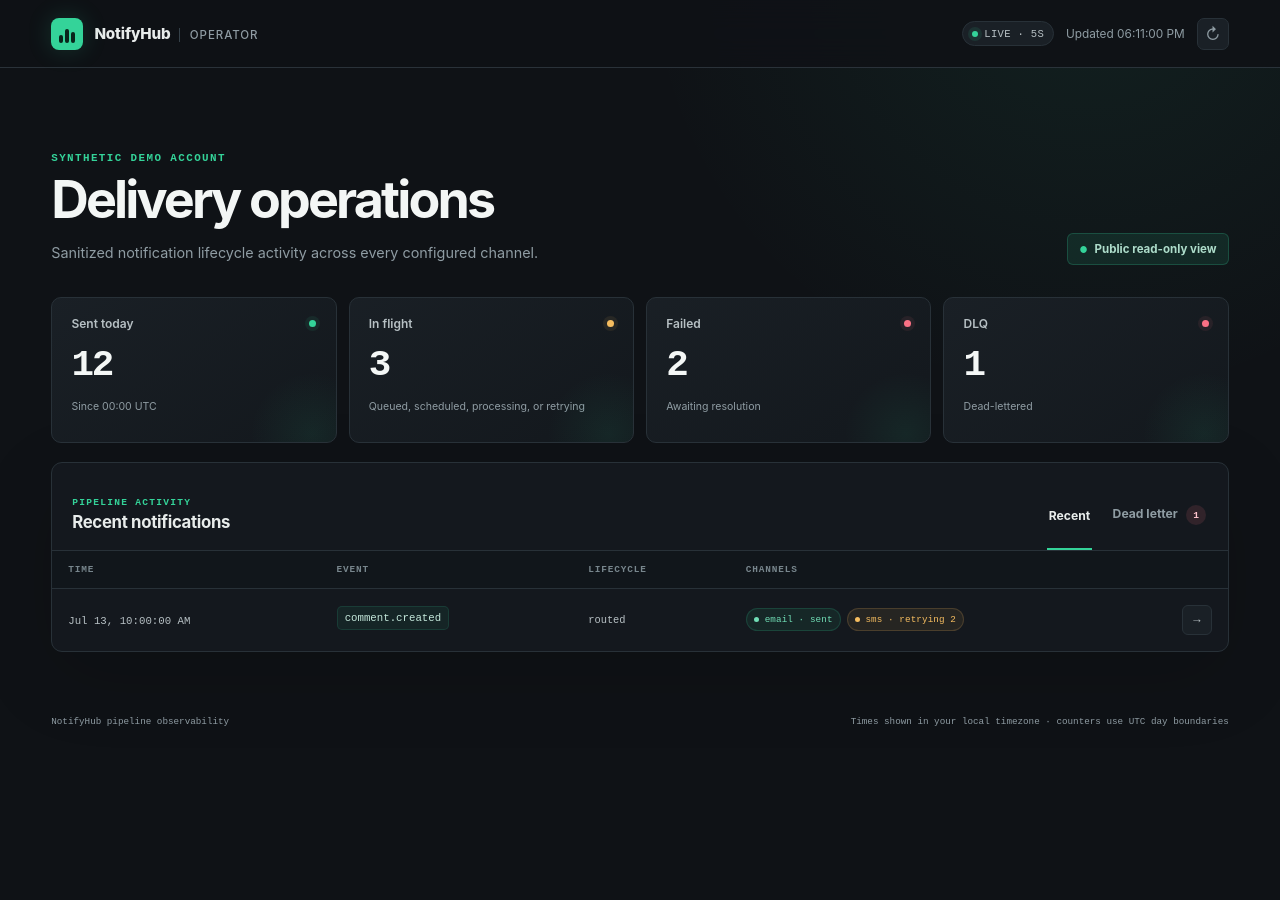
operator dashboard › handles the unauthorized retry outcome and keeps the key in component memory
Click the tab "Dead letter 1" at [1159, 516], box x1=1111 y1=482 x2=1208 y2=550
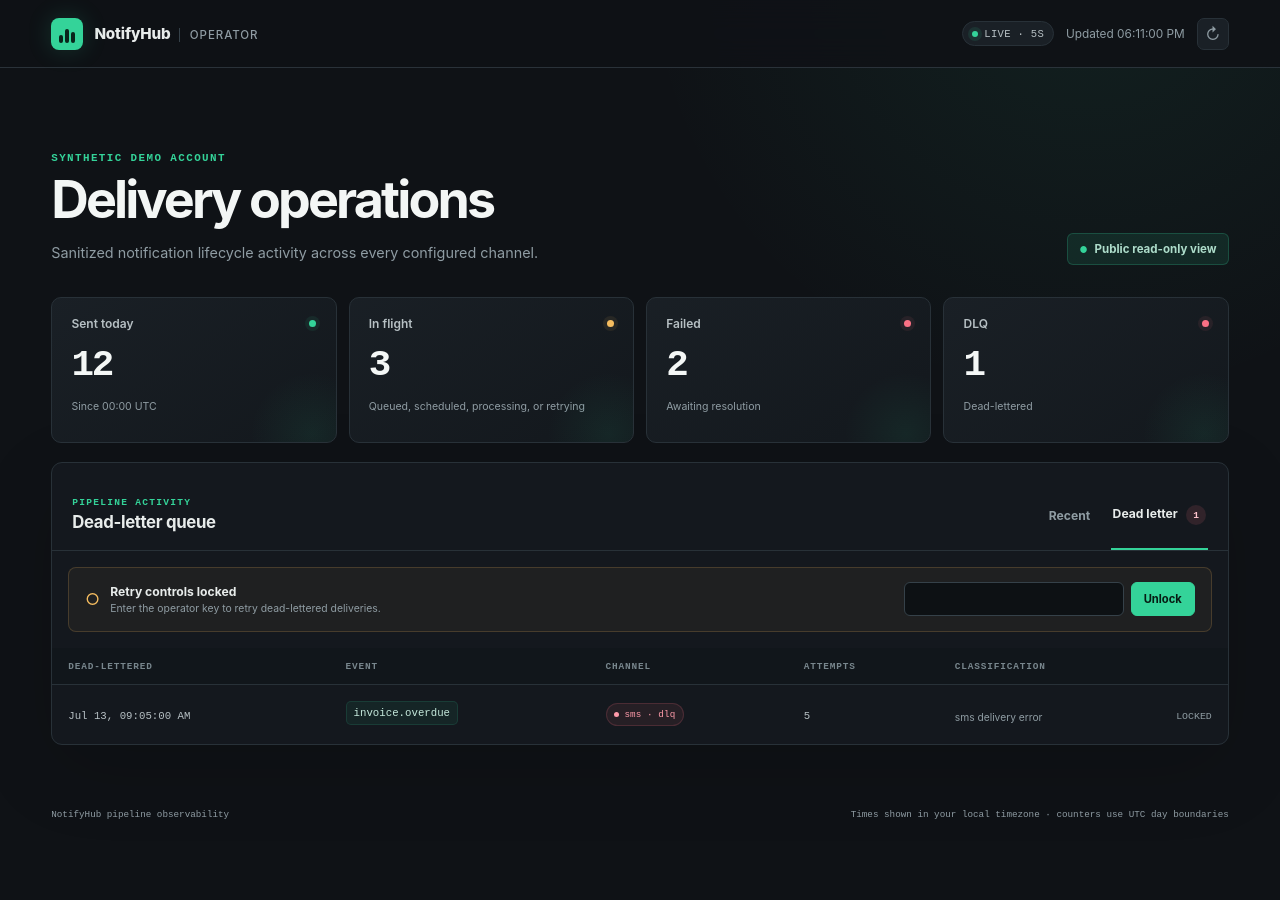
Type "memory-only-key" into the password field named "Operator key" at [1014, 599], box x1=904 y1=582 x2=1124 y2=616
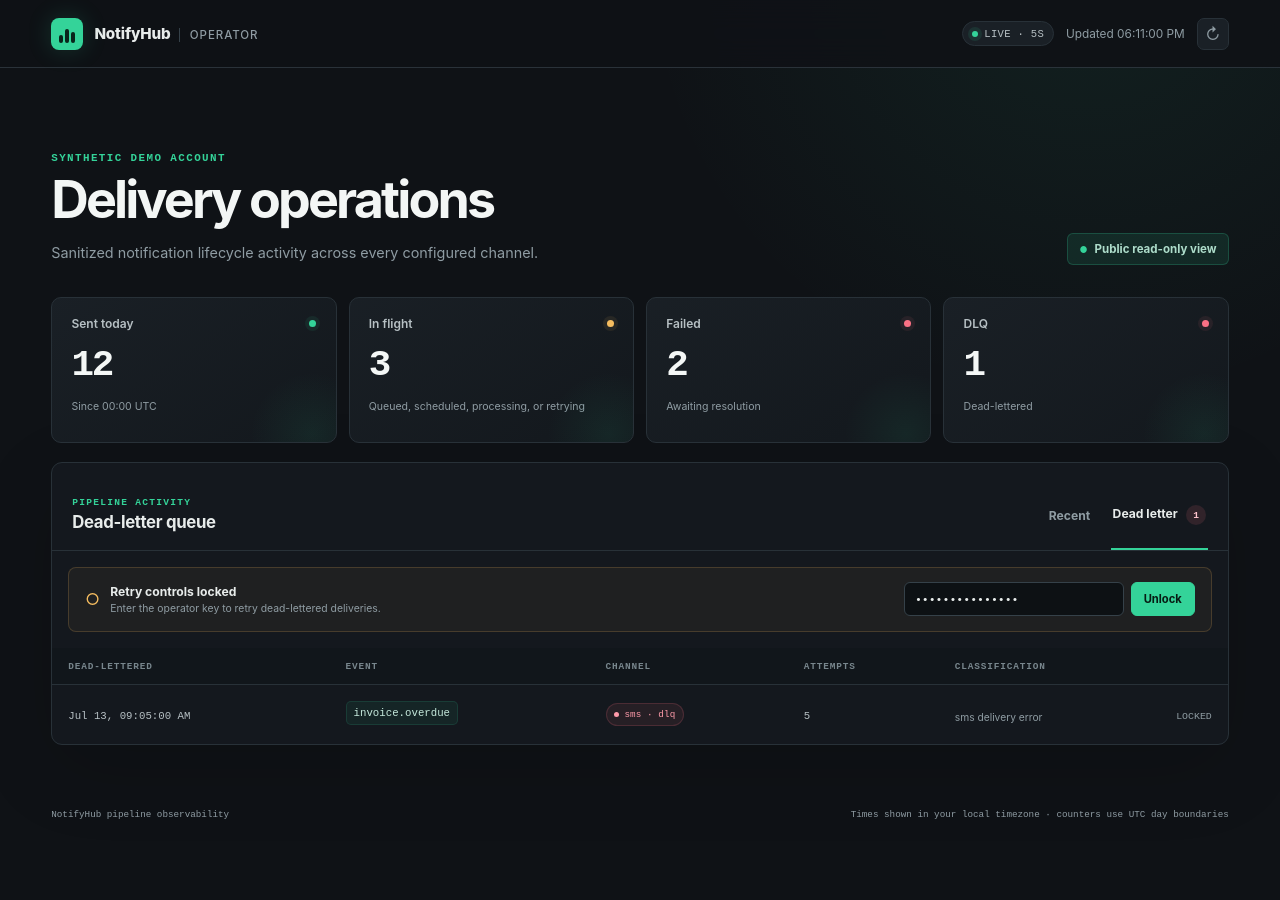
Submit the form named "Operator key", box x1=904 y1=582 x2=1195 y2=616
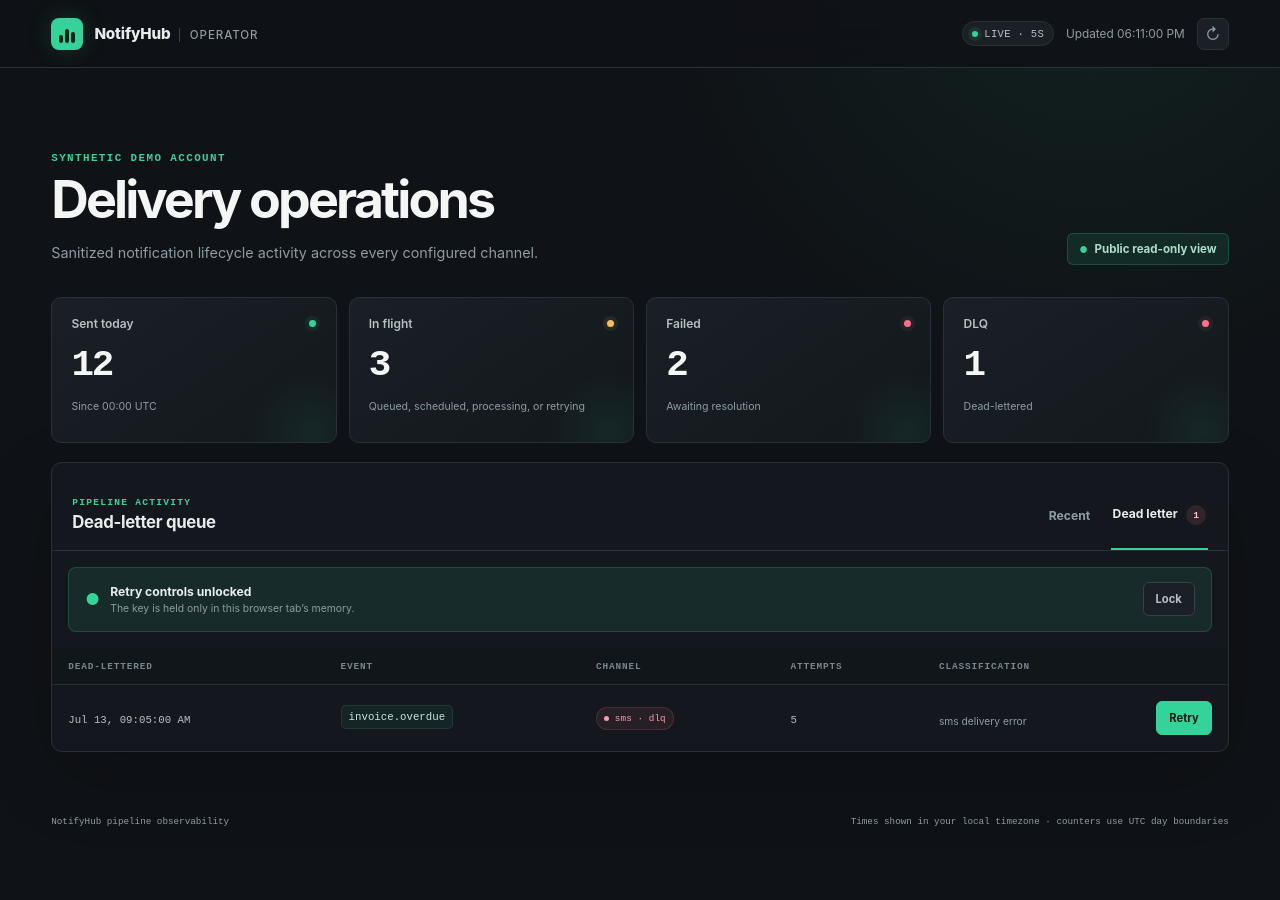
Click the button "Retry" at [1184, 718], box x1=1156 y1=701 x2=1212 y2=735
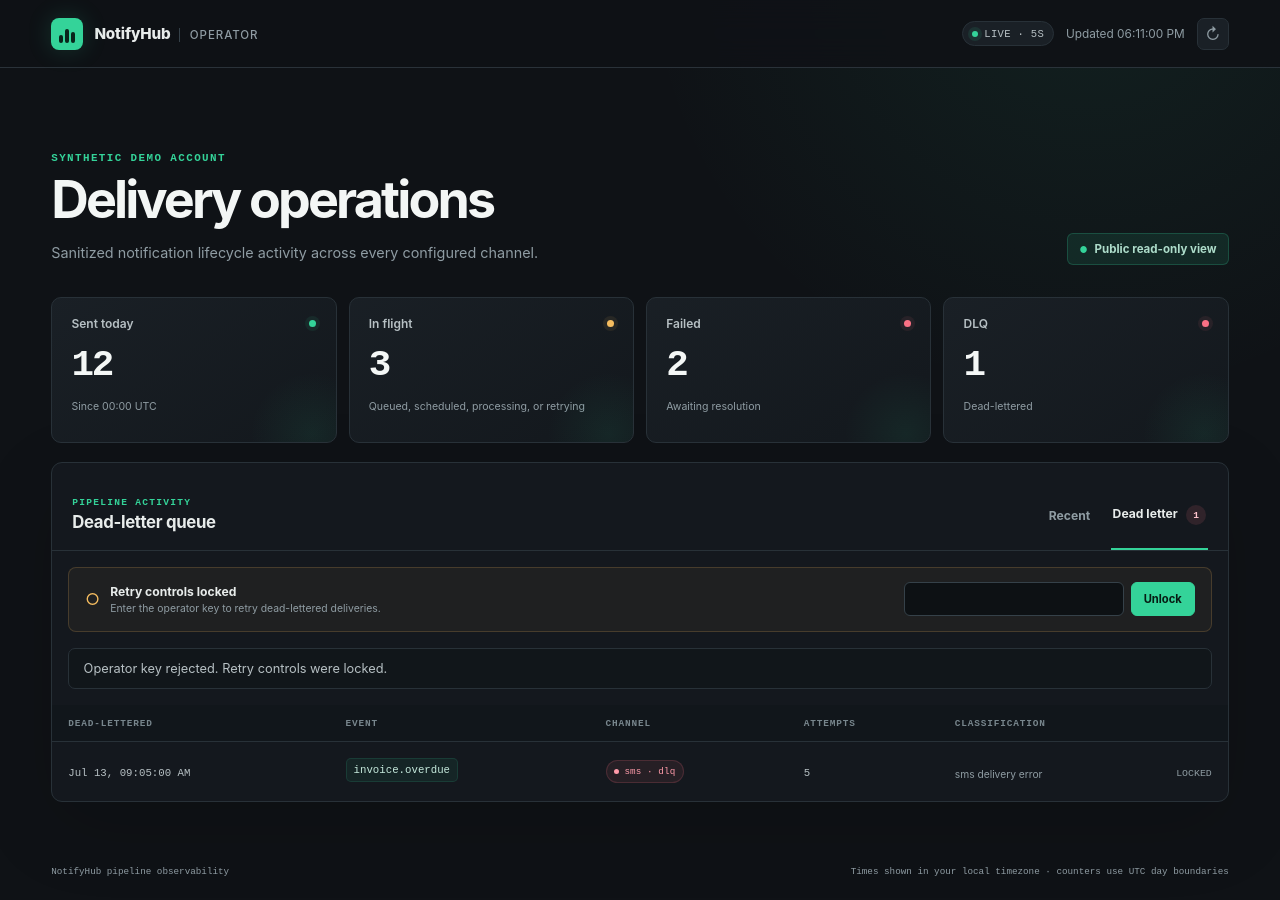
Result: the text "Operator key rejected. Retry controls were locked." is shown at x1=68 y1=648 x2=1212 y2=689
Result: the password field named "Operator key" is empty at x1=904 y1=582 x2=1124 y2=616
Result: the text "Retry controls locked" is shown at x1=110 y1=584 x2=236 y2=599
